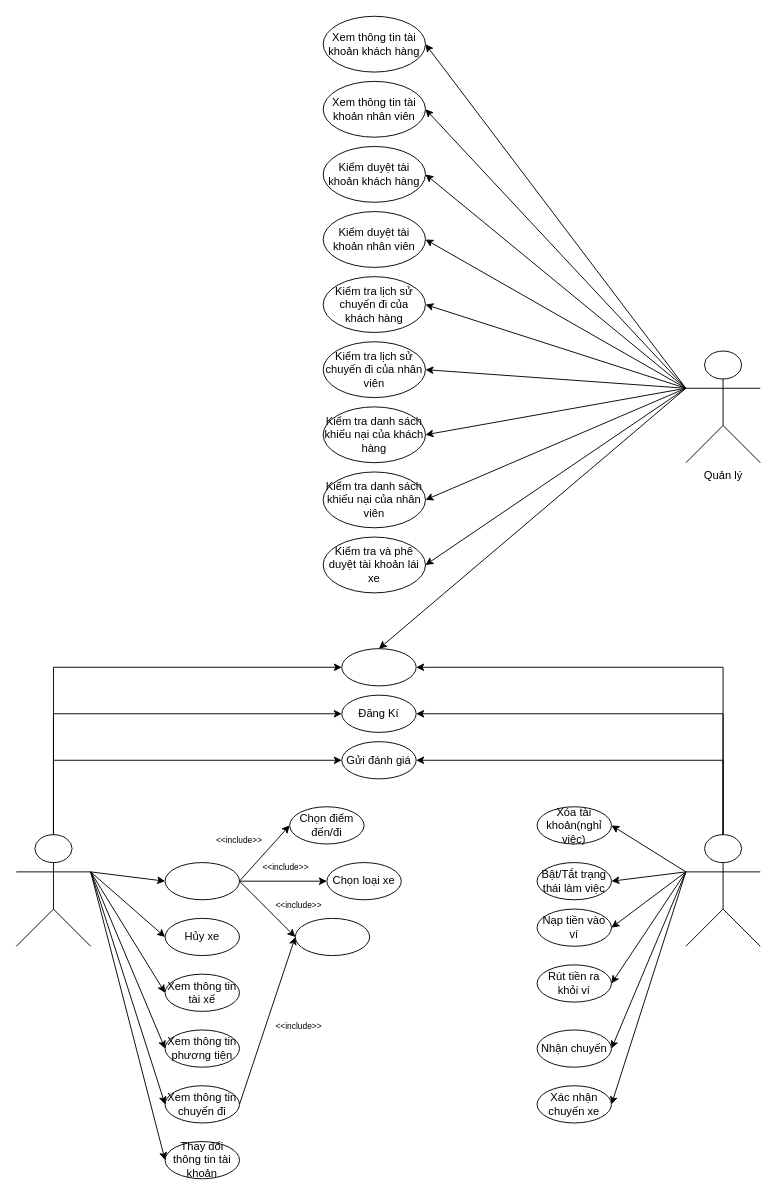
Image size: 777x1196. Some labels were removed from this diagram. The shapes that lost their labels are listed below. From the top down, each one's centre as x and y in pixels, then its label:
At point 378,667: "Đăng nhập".
At point 53,890: "Khách hàng".
At point 201,881: "Đặt xe".
At point 722,890: "Nhân viên".
At point 332,936: "Kiểm tra định vị tài xế".
